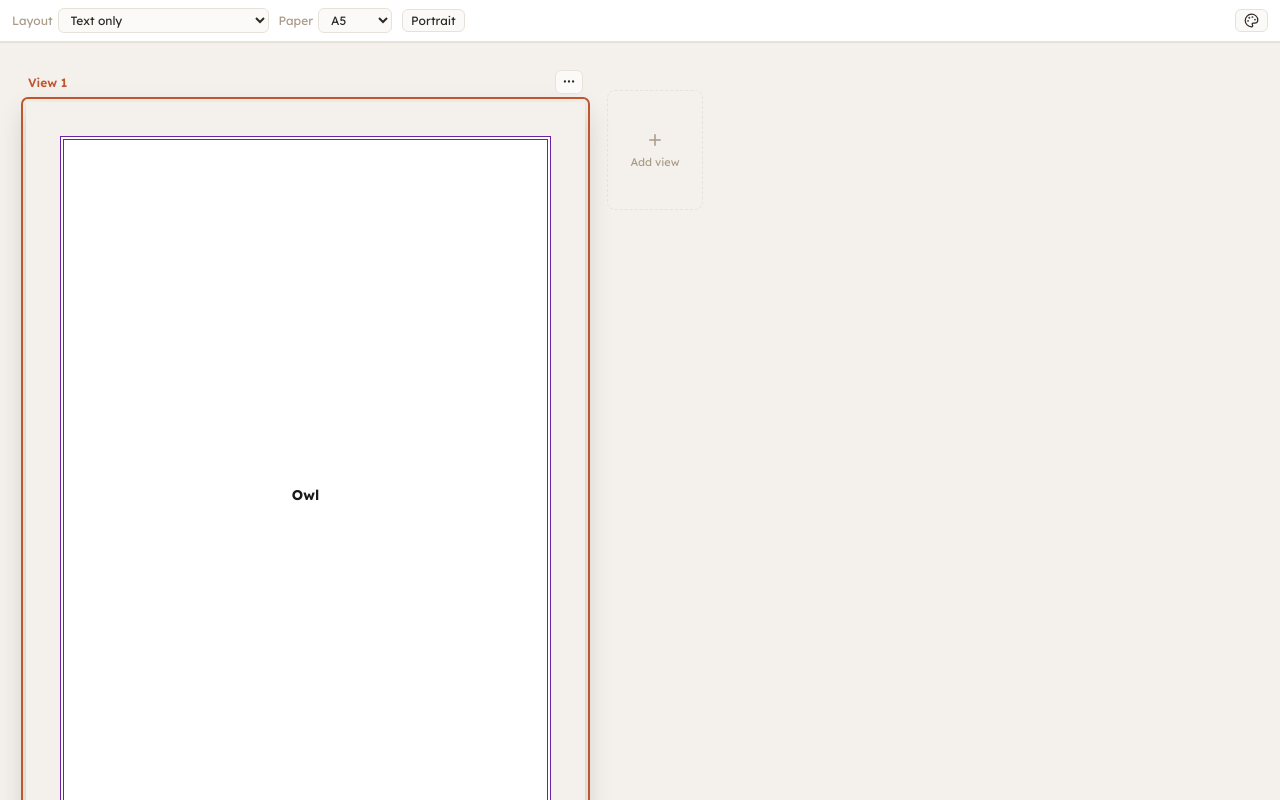
Scenario: CardPreview — views › Delete (via the ⋯ menu) removes a view; the last remaining view has no delete affordance
The image size is (1280, 800).
Click the button "Add view".
click(655, 150)  # box [607,90,703,210]
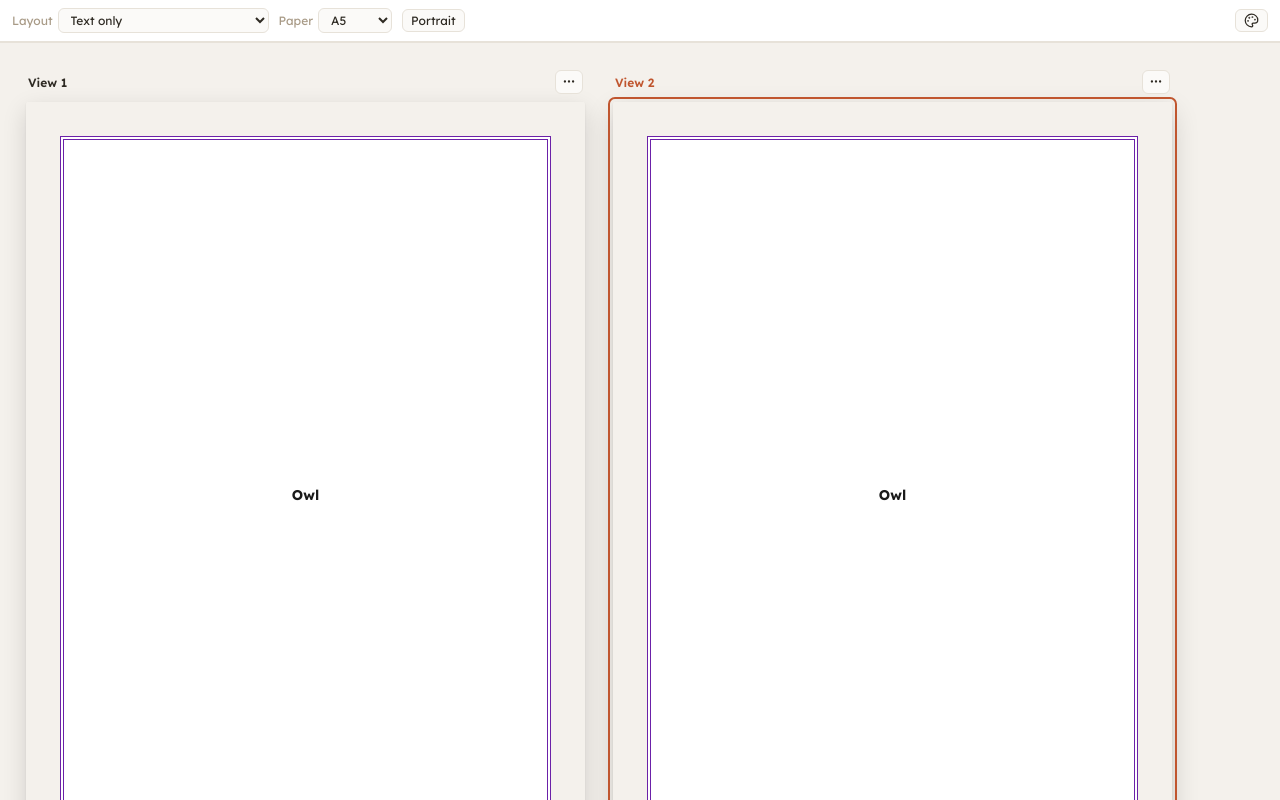
Click the button named "View 2 options".
click(1156, 82)  # box [1142,70,1170,94]
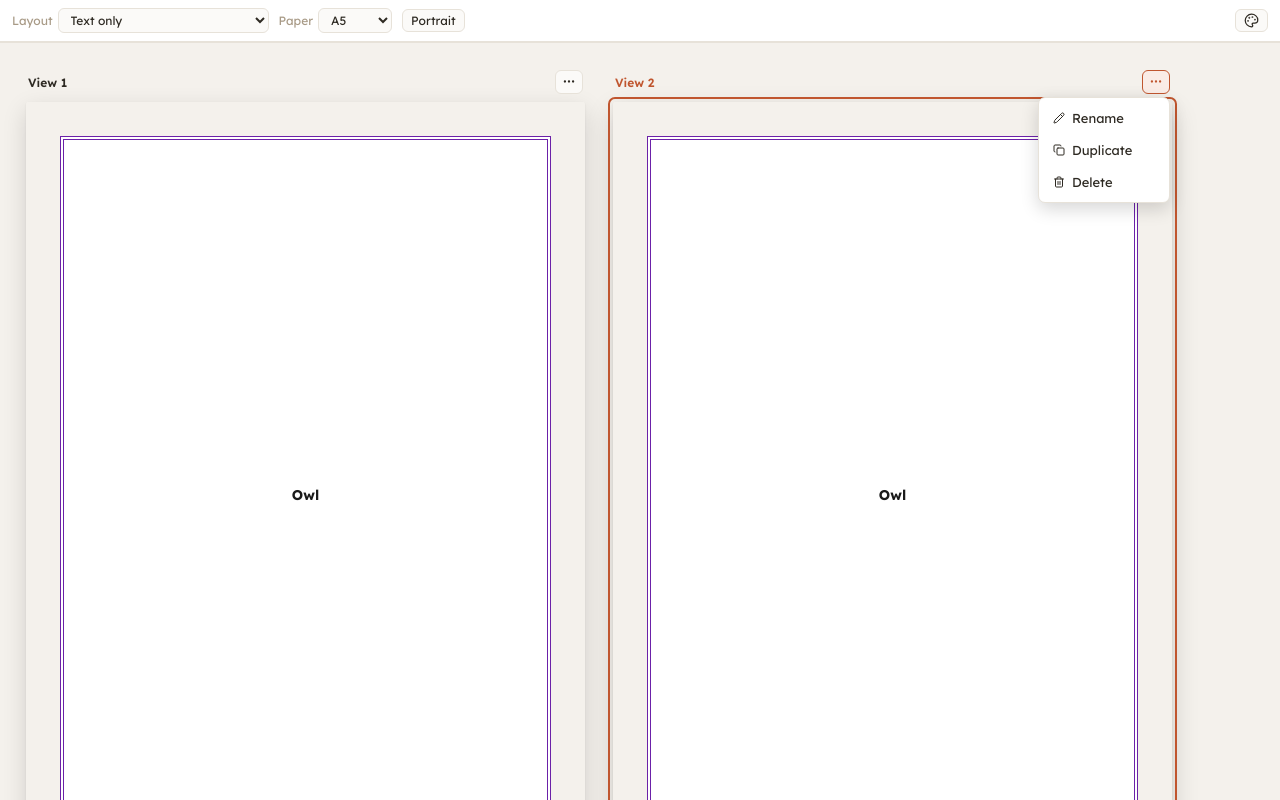
Click the menu item with aria-label "Delete View 2".
click(1104, 182)  # box [1044,167,1164,197]
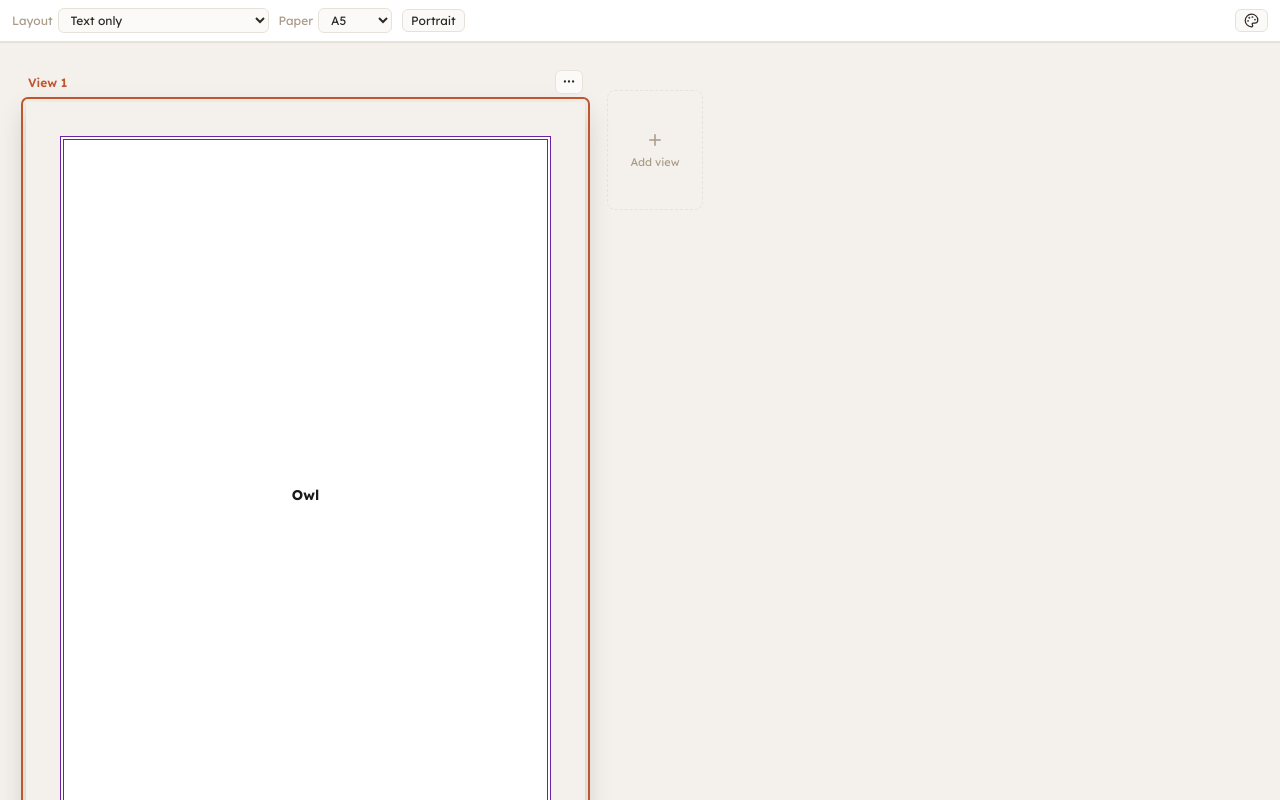
Click the button named "View 1 options".
click(569, 82)  # box [555,70,583,94]
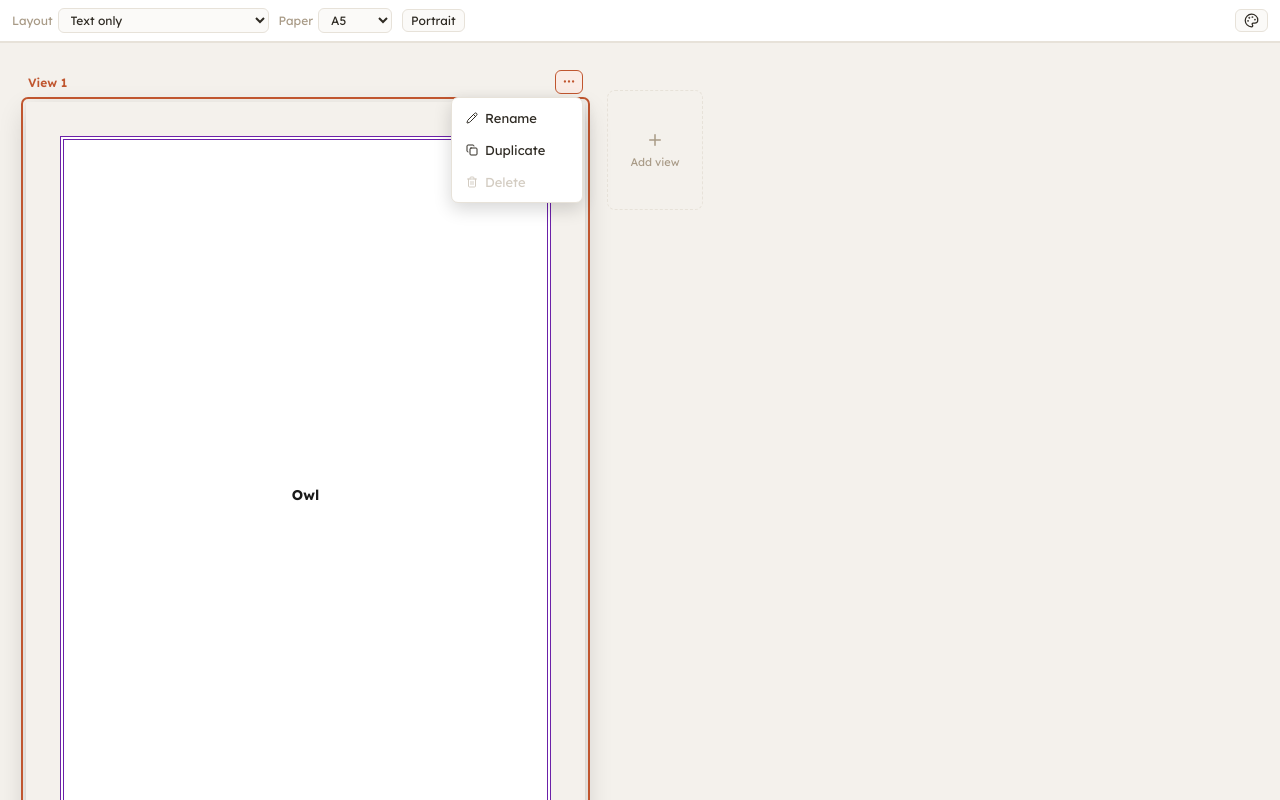
Check: the menu item with aria-label "Delete View 1" is disabled, box [457,167,577,197]
